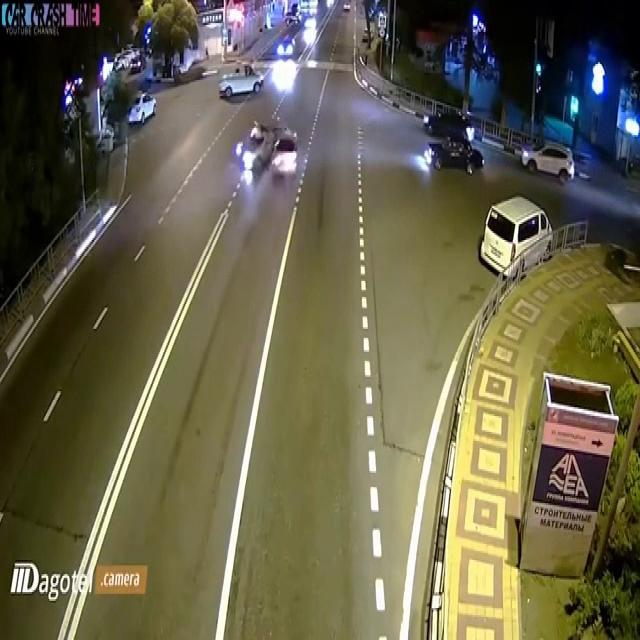accident: (227, 95, 313, 204)
